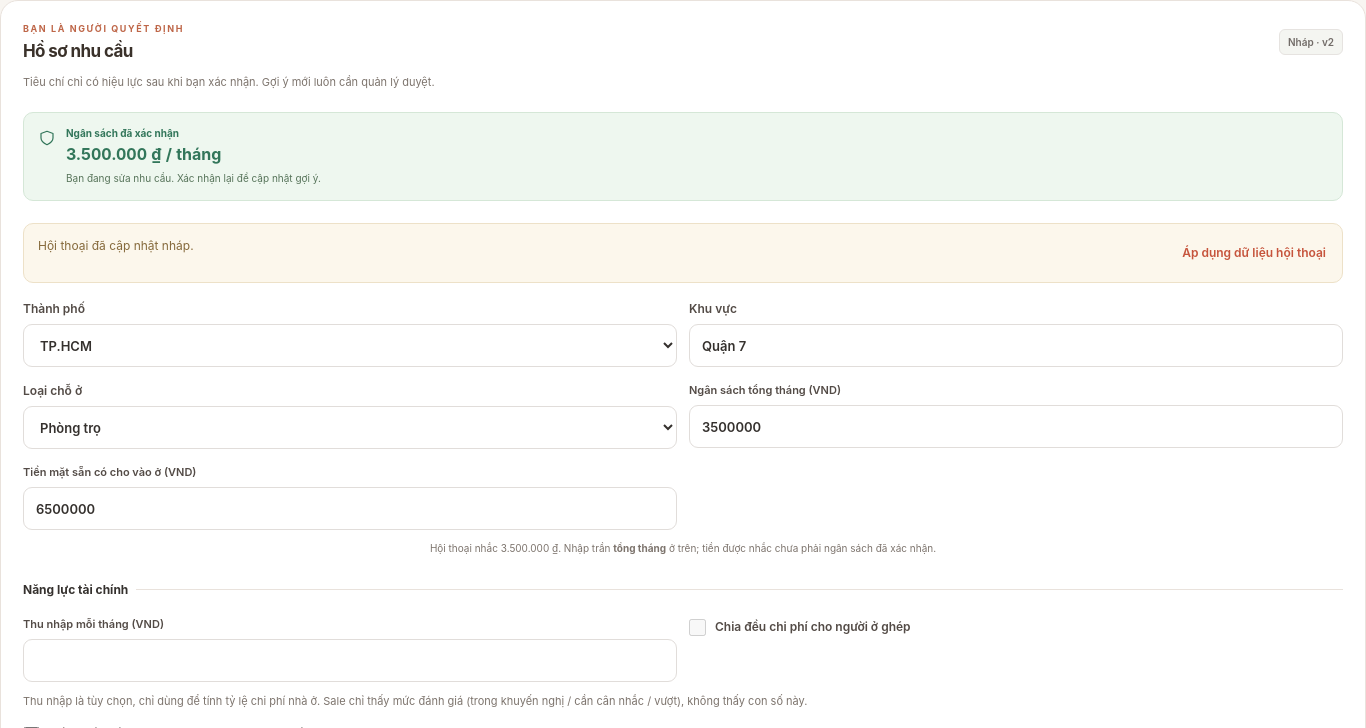
Test: offers the newer conversation draft after prior confirmation even without a local edit
Click the button "Áp dụng dữ liệu hội thoại" at (1254, 253), box [1180,236,1328,270]
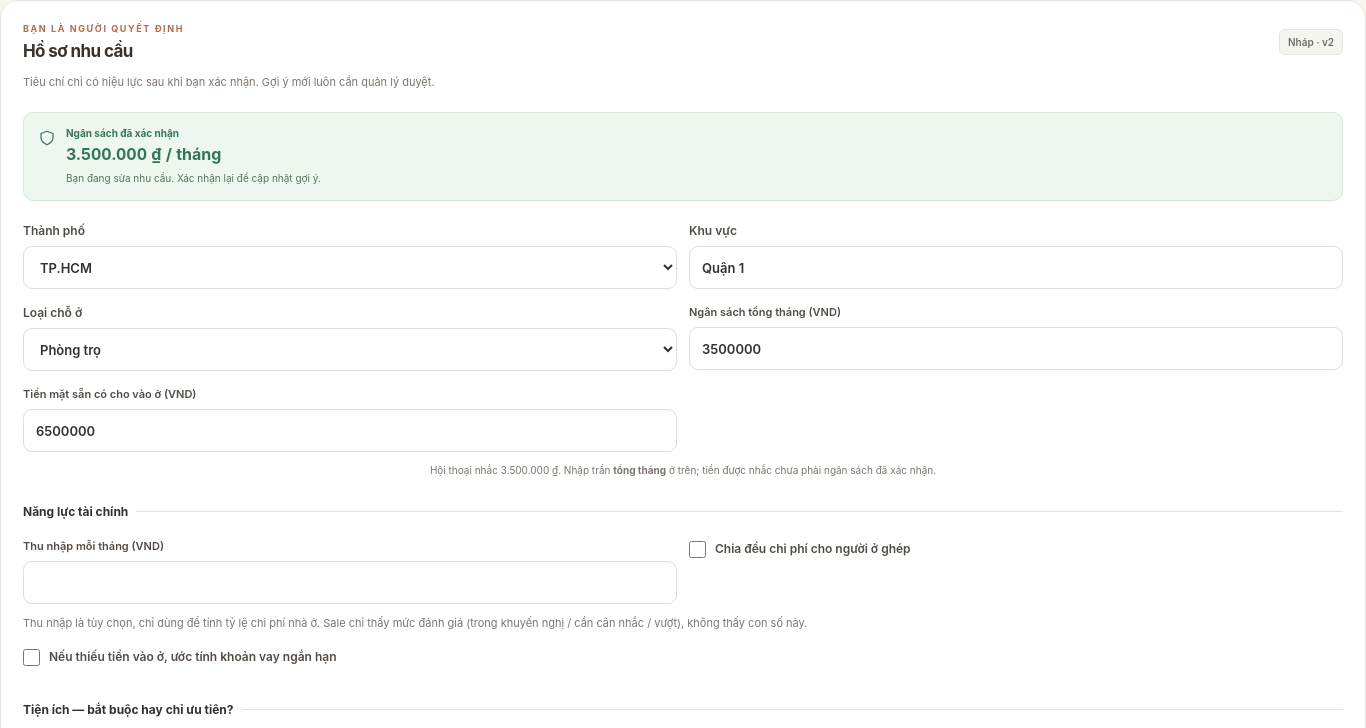
Expected: the number field labelled "Ngân sách tổng tháng (VND)" holds "3500000", [689,327,1343,370]
Result: the field labelled "Khu vực" holds "Quận 1" at [689,246,1343,289]
